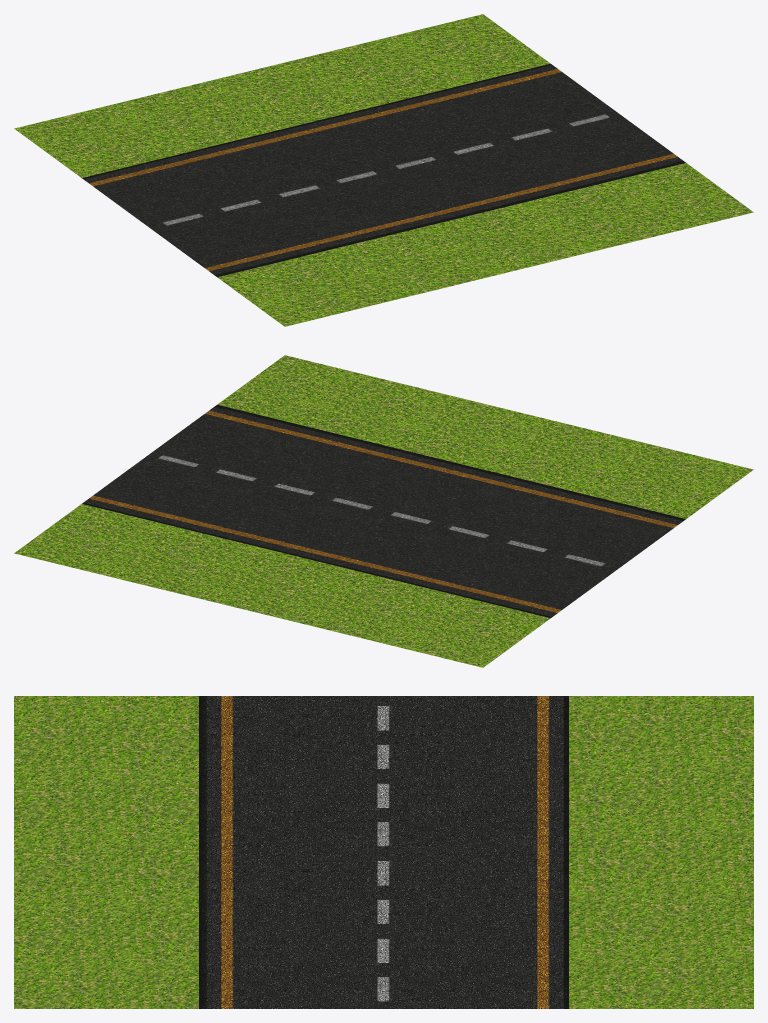
The model's file is S_Ground.fbx.
The picture shows the model from 3 angles, top to bottom: view 1: azimuth 30°, elevation 25°; view 2: azimuth 150°, elevation 25°; view 3: azimuth 270°, elevation 25°; orthographic projection. The views are drawn at different scales.
Parts seen in each view (by area): view 1: Plane; view 2: Plane; view 3: Plane.
Part boxes in pixels (bbox=[...]): Plane: bbox=[14, 14, 753, 326]; Plane: bbox=[14, 355, 753, 667]; Plane: bbox=[14, 696, 753, 1008].
Size of the model in its own units: 400 by 6.52e-05 by 400.
2 materials, 2 textured.
